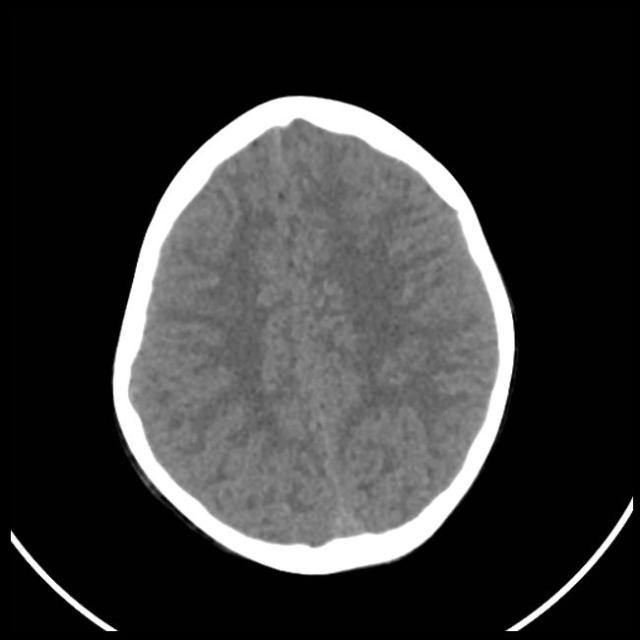lesion: (111, 102, 517, 568)
